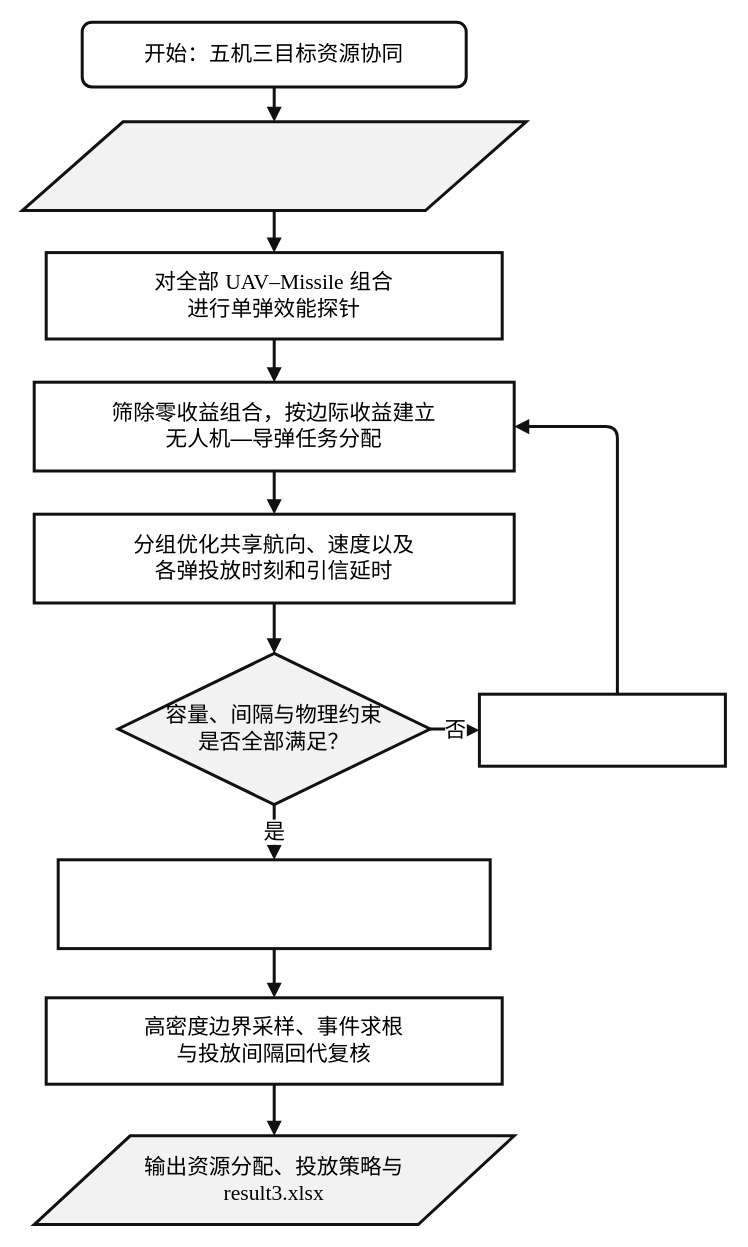
This 748x1247 diagram has some shape labels left out. The centre of each missing label's shape, as x and y in pixels:
"回退并修复分配或时序" belongs at point (601, 729).
"输入 5 架无人机、 3 枚导弹 及统一完整圆柱评价器" belongs at point (273, 166).
"逐导弹合并有效区间 F = Σ μ(∪Ω jk )" belongs at point (273, 904).
